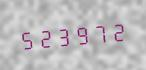five: (17, 24, 34, 53)
nine: (72, 20, 89, 48)
seven: (90, 18, 107, 46)
three: (54, 21, 71, 50)
two: (108, 16, 125, 45), (35, 23, 52, 51)
